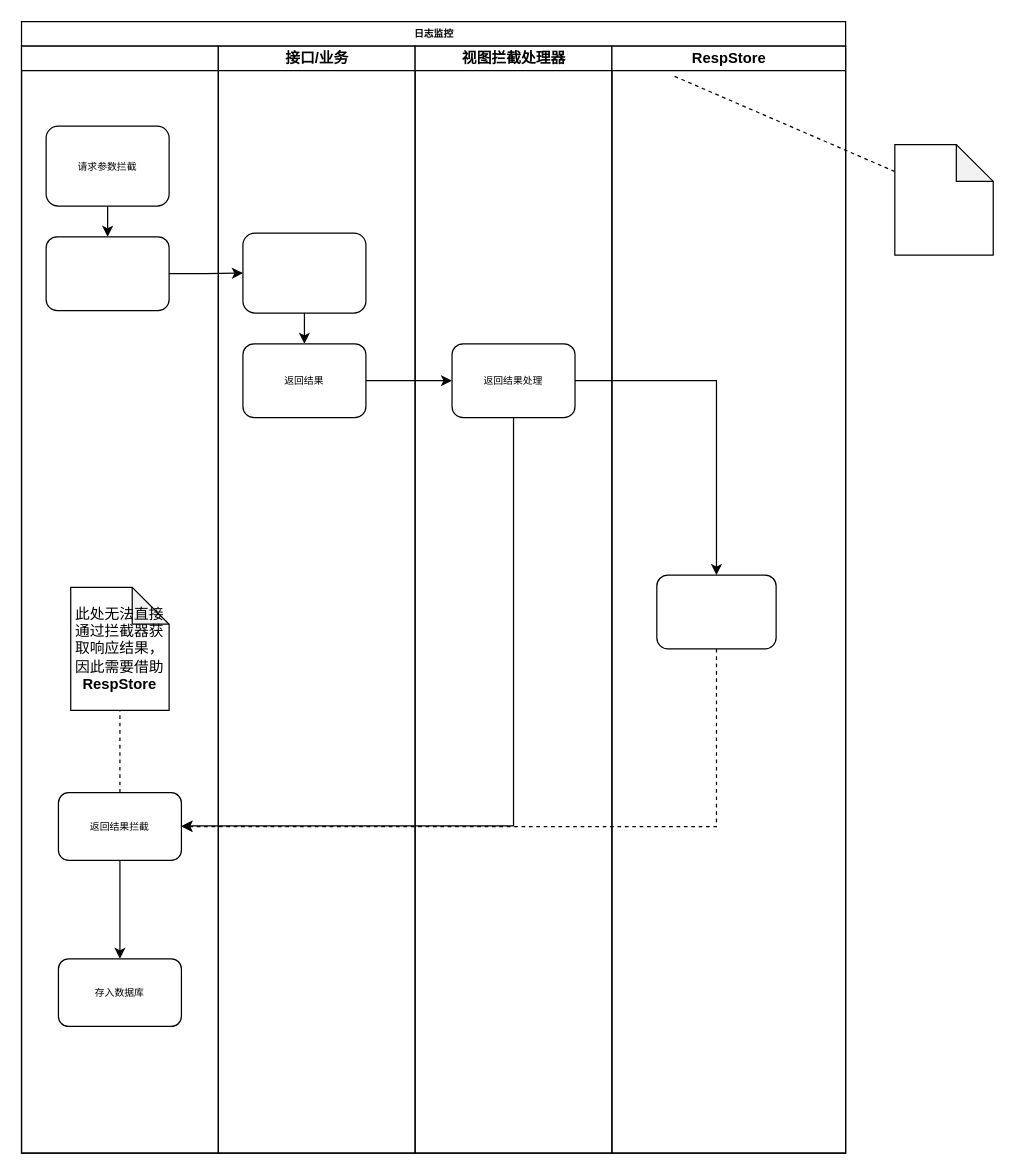
This 1015x1175 diagram has some shape labels left out. The box of each missing label's shape, as (x1, y1, x2, y2) in pixels:
处理业务: (242, 232, 366, 313)
放入code和data: (656, 574, 776, 649)
日志拦截器: (20, 45, 218, 1153)
用2个ThreadLocal暂存code和msg: (894, 143, 993, 255)
请求参数打印: (45, 236, 169, 311)
